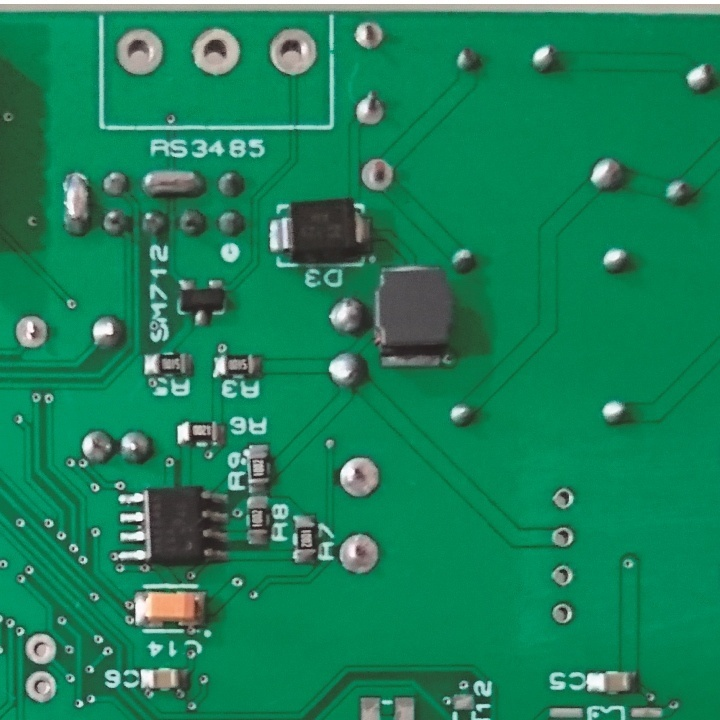F: (114, 24, 167, 80), (189, 26, 244, 79), (268, 26, 320, 79), (336, 529, 384, 578), (338, 455, 382, 503), (358, 155, 396, 195), (353, 89, 388, 131), (12, 313, 50, 350), (21, 669, 59, 705), (23, 630, 59, 666), (351, 18, 384, 54), (550, 484, 579, 512), (550, 525, 577, 551), (550, 563, 575, 587), (550, 601, 574, 626)
P: (139, 166, 210, 201), (59, 168, 93, 240)
